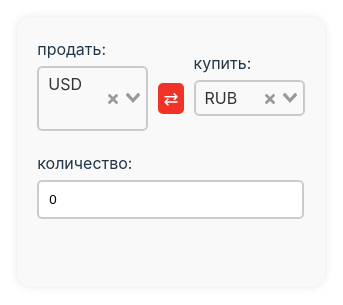
it: CurrencyConverter.vue › корректно конвертирует валюты
The image size is (343, 305).
Replace the text in the number field labelled "количество:" with "100": (171, 199) [37,180,304,218]
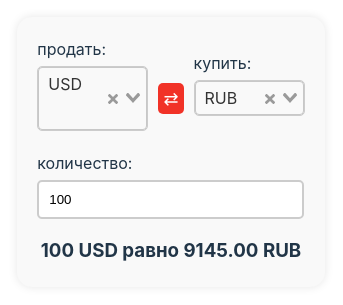
Expected: the heading "100 USD равно 9145.00 RUB" is shown, [37,237,305,265]
